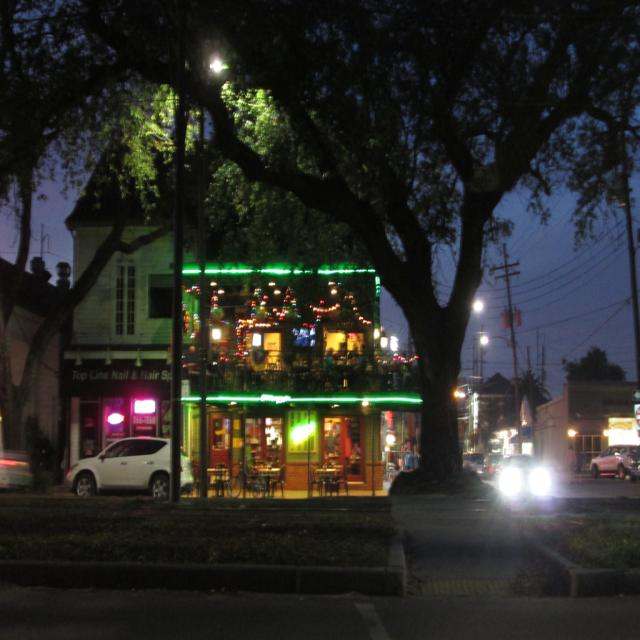car: (494, 447, 545, 492)
